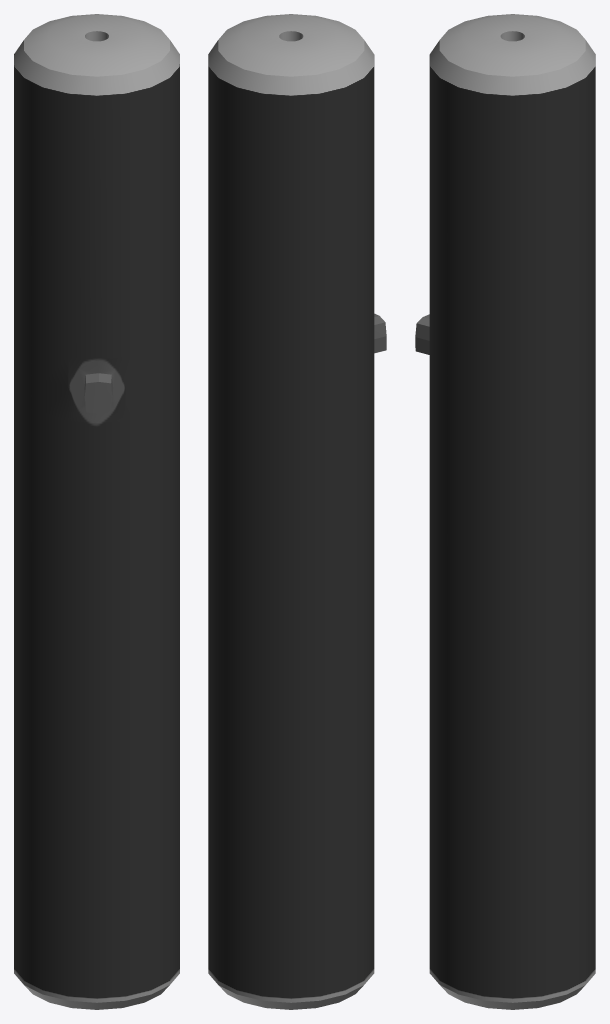
File: LASER.fbx
3 renders of one model, left to right at view 1: azimuth 30°, elevation 25°; view 2: azimuth 150°, elevation 25°; view 3: azimuth 270°, elevation 25°, orthographic.
Visible parts, largest first — view 1: Cylinder001; view 2: Cylinder001; view 3: Cylinder001.
Boxes of the visible parts, x1=… form: Cylinder001: x1=14, y1=14, x2=179, y2=1009; Cylinder001: x1=208, y1=14, x2=386, y2=1009; Cylinder001: x1=415, y1=14, x2=595, y2=1009.
Size of the model in its own units: 5.01 by 30.92 by 5.36.
1 material, 1 textured.
